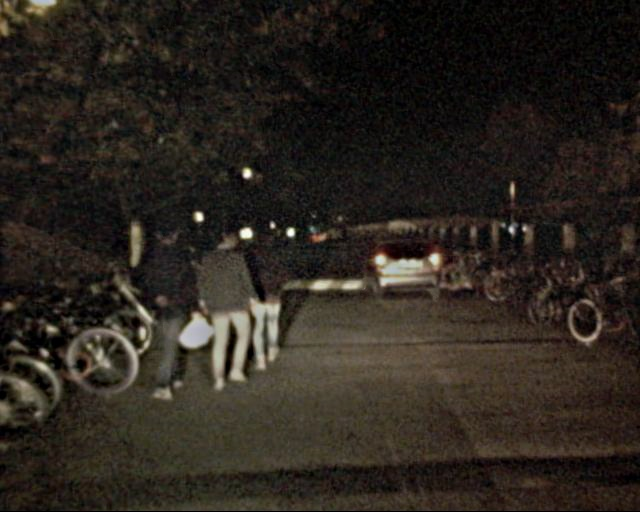person: (130, 218, 203, 401), (186, 219, 257, 391), (231, 223, 292, 373)
